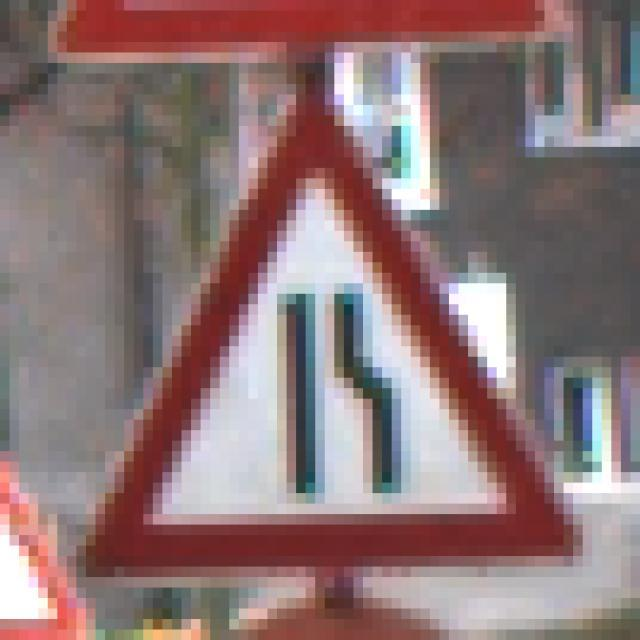narrow road ahead: (72, 88, 587, 577)
